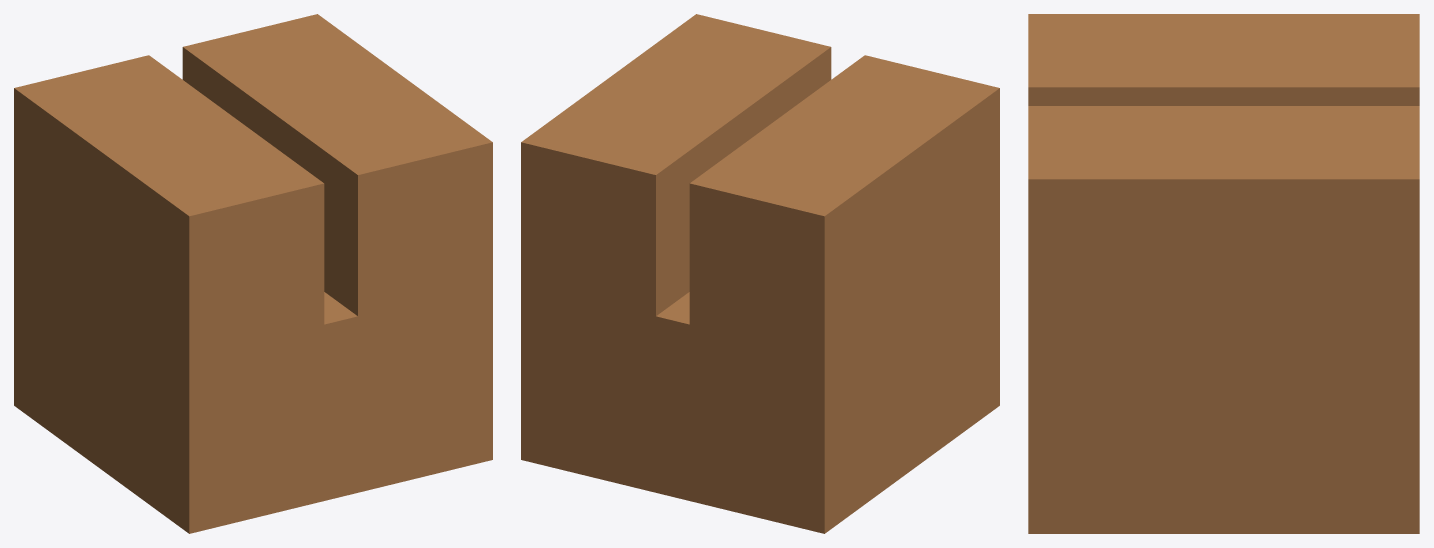
Rendered from Thin_Straight_M_Model.fbx.
3 renders of one model, left to right at view 1: azimuth 30°, elevation 25°; view 2: azimuth 150°, elevation 25°; view 3: azimuth 270°, elevation 25°, orthographic. The views are drawn at different scales.
Visible parts, largest first — view 1: Cube; view 2: Cube; view 3: Cube.
Boxes of the visible parts, x1,y1,x2,y2 form: Cube: (14,14,492,533); Cube: (521,14,999,533); Cube: (1028,14,1419,533).
Size of the model in its own units: 100 by 100 by 100.
